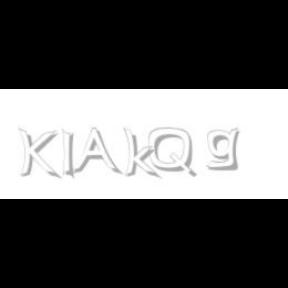A: (71, 128, 119, 176)
I: (62, 128, 76, 180)
K: (18, 128, 58, 180)
Q: (149, 128, 195, 178)
g: (206, 128, 244, 171)
k: (123, 128, 161, 180)
